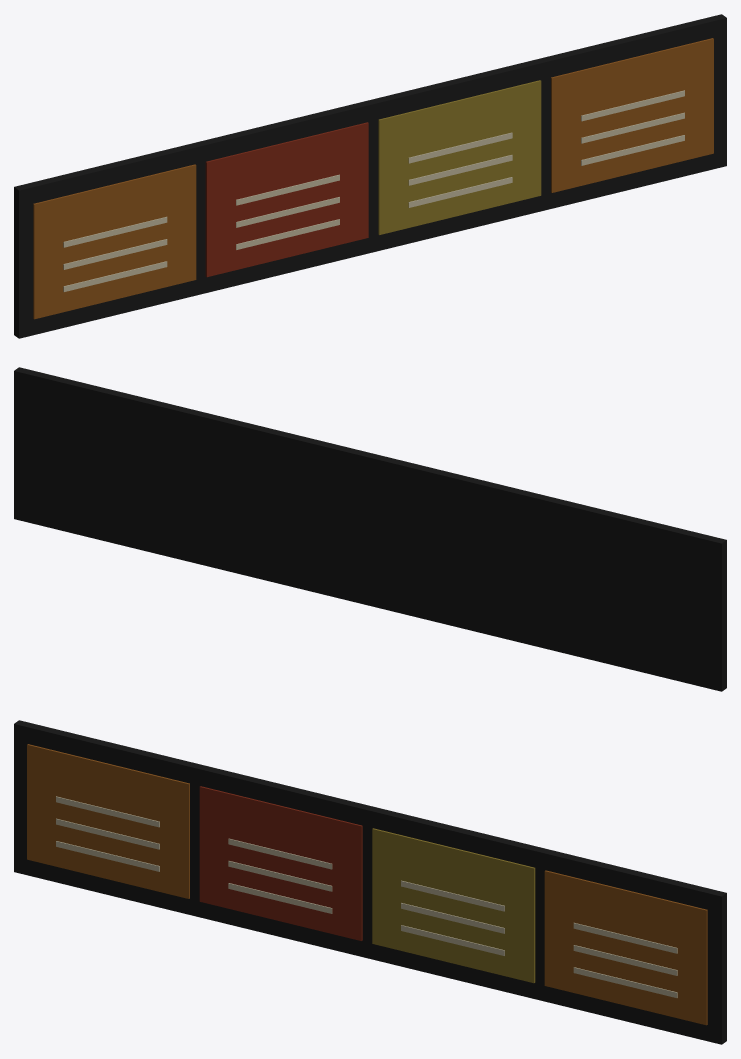
Rendered from menu_board_4.glb.
The picture shows the model from 3 angles, top to bottom: view 1: azimuth 30°, elevation 25°; view 2: azimuth 150°, elevation 25°; view 3: azimuth 330°, elevation 25°; orthographic projection.
Parts seen in each view (by area): view 1: menu_board_4; view 2: menu_board_4; view 3: menu_board_4.
Boxes of the visible parts, x1,y1,x2,y2 form: menu_board_4: (14,14,726,338); menu_board_4: (14,367,726,691); menu_board_4: (14,720,726,1044).
Bounding box in the file's own units: 4 × 0.8 × 0.0645.
